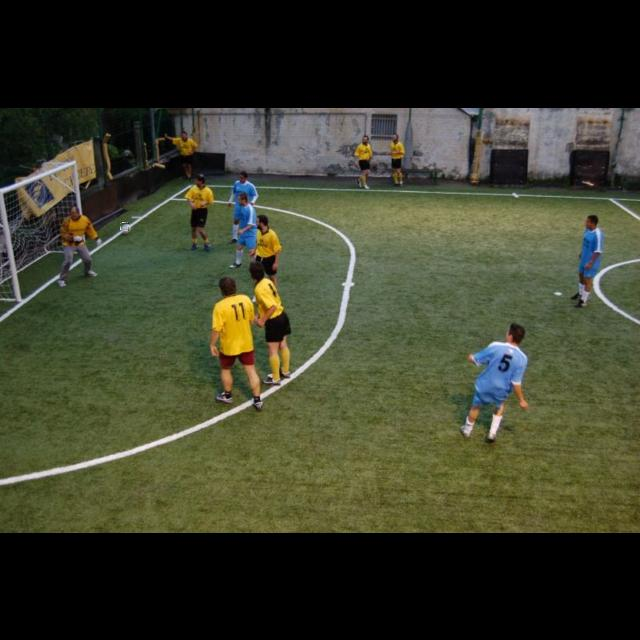Football: (121, 223, 129, 231)
